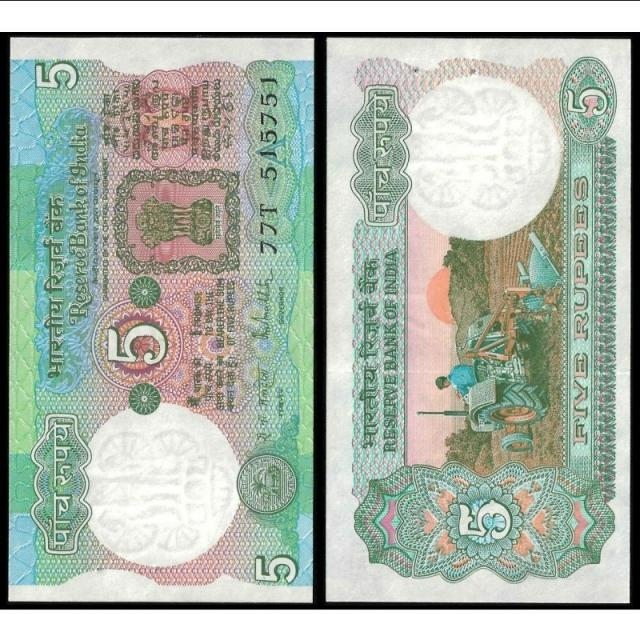5IndianRupees: (324, 42, 625, 602)
